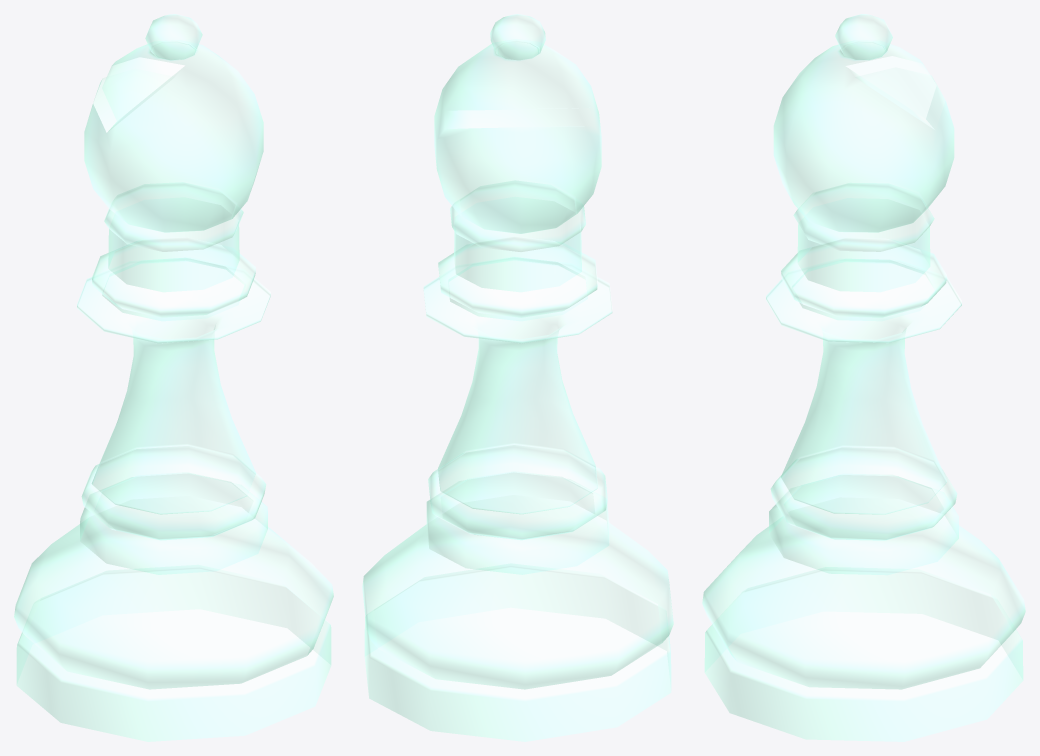
File: item-2-13.glb
The picture shows the model from 3 angles, left to right: view 1: azimuth 30°, elevation 25°; view 2: azimuth 150°, elevation 25°; view 3: azimuth 270°, elevation 25°; orthographic projection.
Parts seen in each view (by area): view 1: BlackBishop; view 2: BlackBishop; view 3: BlackBishop.
Part boxes in pixels (x1=…): BlackBishop: x1=14, y1=14, x2=333, y2=741; BlackBishop: x1=362, y1=14, x2=673, y2=741; BlackBishop: x1=702, y1=14, x2=1025, y2=741.
Bounding box in the file's own units: 0.0928 × 0.2155 × 0.0958.
